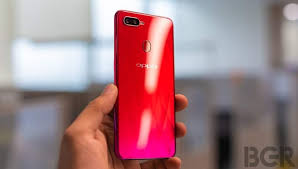oppo: (110, 8, 180, 164)
